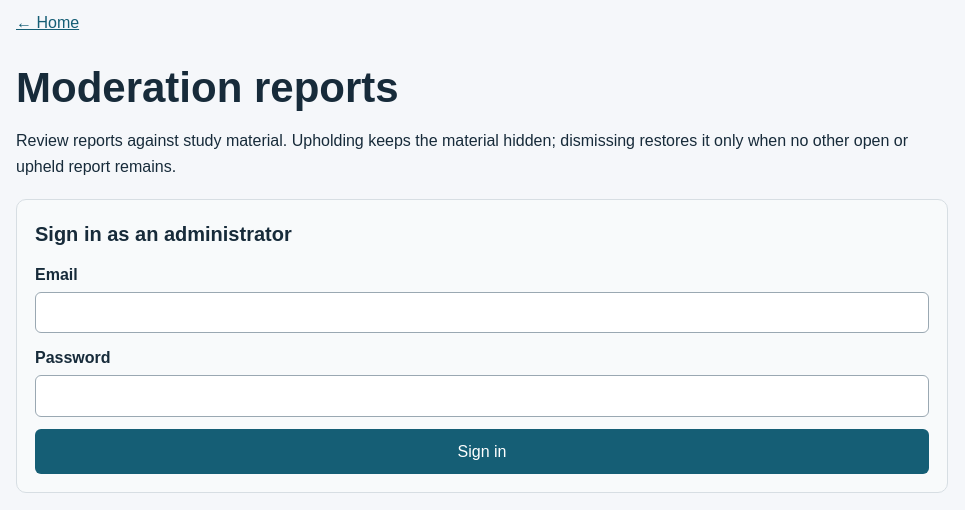
Scenario: non-admin cannot load the moderation queue
Type "student@example.com" into the field labelled "Email".
click(482, 313); type("student@example.com")  # box [35,292,929,333]
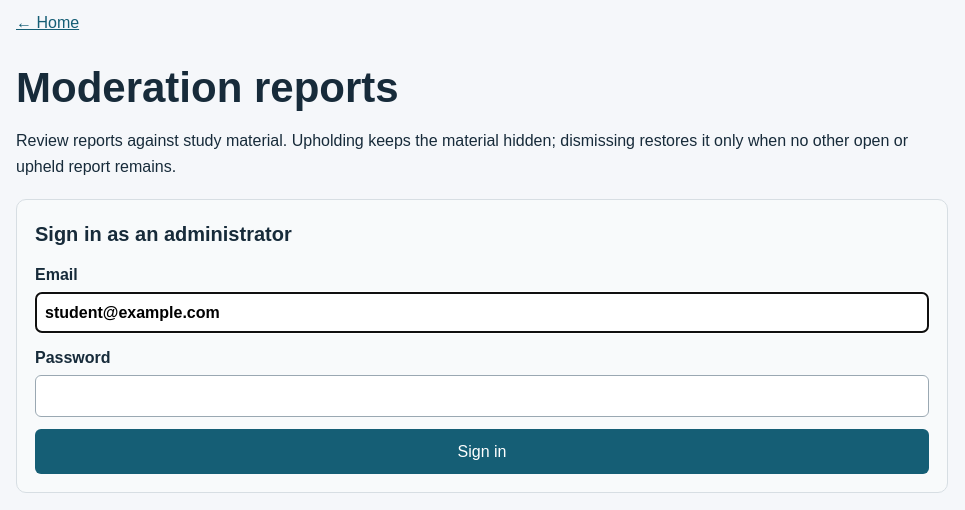
Type "Study1234" into the password field labelled "Password".
click(482, 396); type("Study1234")  # box [35,375,929,417]
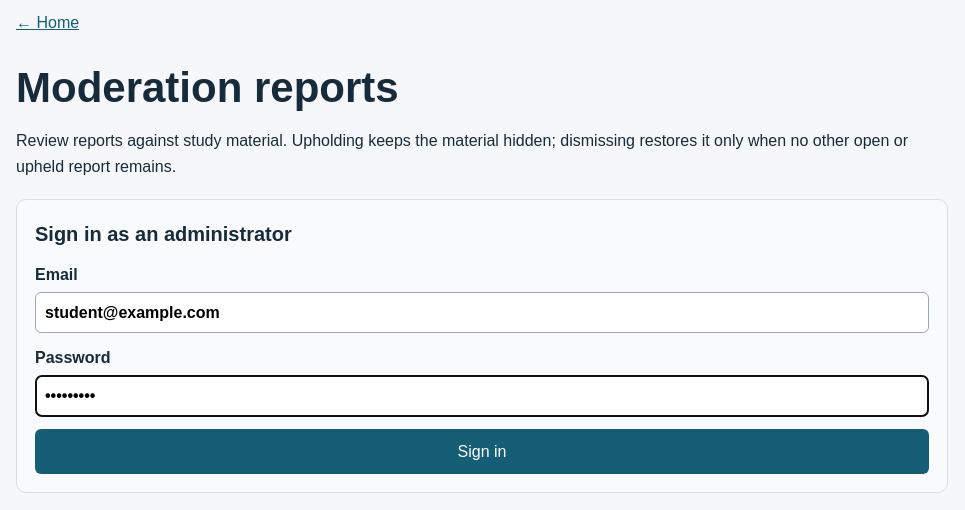
Click the button "Sign in".
click(482, 451)  # box [35,429,929,474]
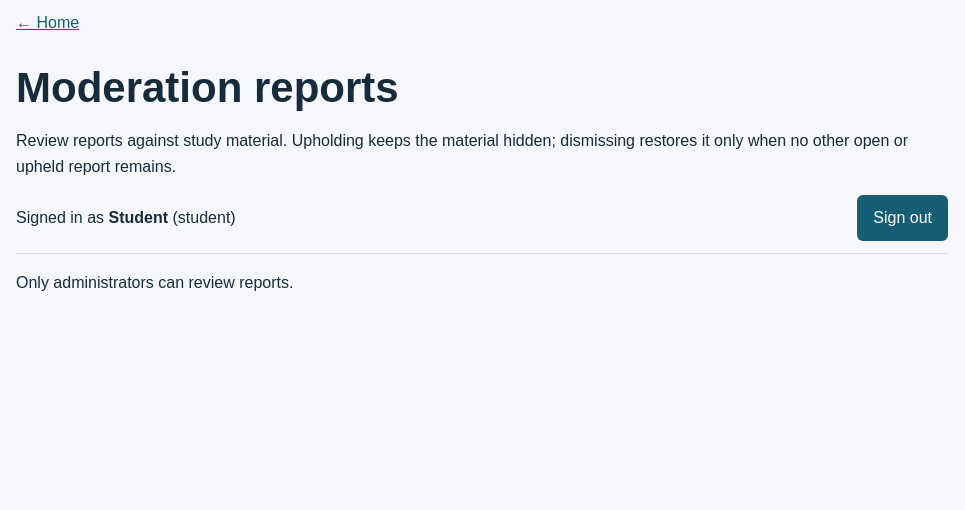
Now the text "Only administrators can review reports." is shown, box [16,274,293,291]
